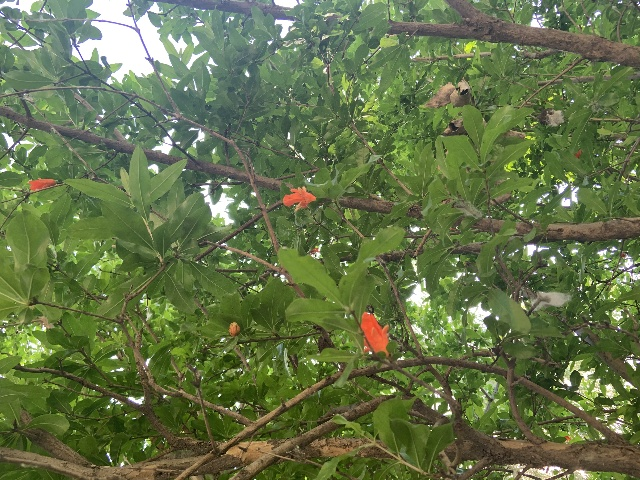bud: (229, 321, 240, 336)
flower: (360, 311, 390, 355), (283, 185, 316, 210), (27, 177, 56, 190)
